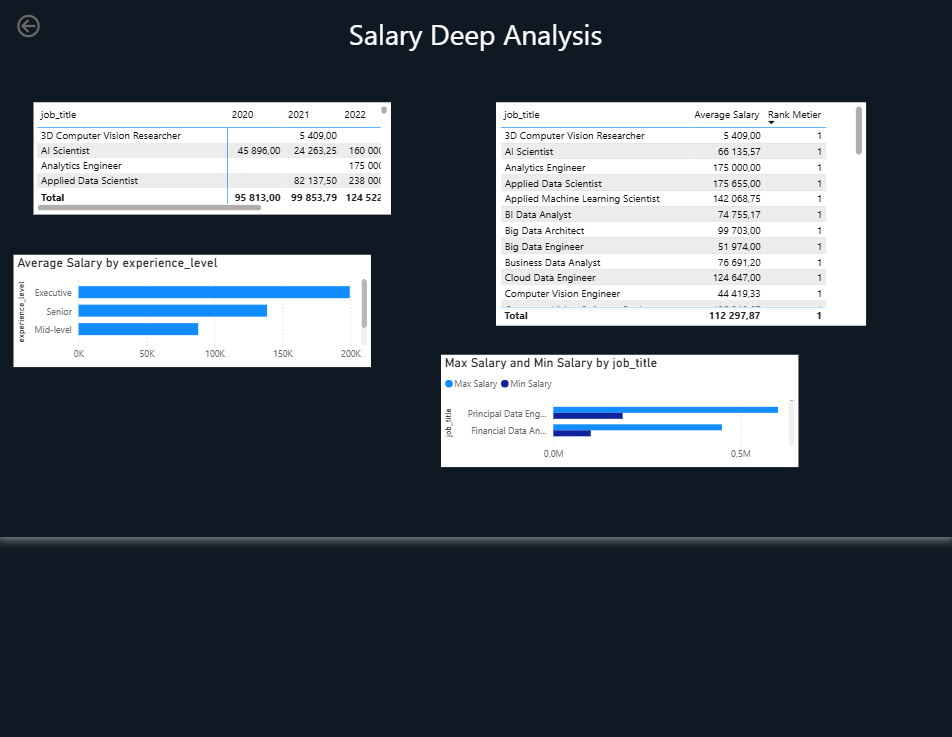

What the dashboard file says about the page in this screenshot:
{"tool":"powerbi","page":{"name":"Salaries","canvas":[1280,720],"ordinal":1},"visuals":[{"type":"textbox","box":[354.5,20,476,81.6],"z":0},{"type":"pivotTable","fields":{"Rows":["Dim_Metier.job_title"],"Columns":["Dim_Temps.work_year"],"Values":["_Mesures.Salaire Moyen"]},"box":[49.9,141.5,476,149.8],"z":1000},{"type":"clusteredBarChart","title":"Average Salary by experience_level","fields":{"Category":["Dim_Experience.experience_level"],"Y":["_Mesures.Salaire Moyen"]},"box":[23.3,344.6,476,149.8],"z":2000},{"type":"clusteredBarChart","title":"Max Salary and Min Salary by job_title","fields":{"Category":["Dim_Metier.job_title"],"Y":["_Mesures.Salaire Max","_Mesures.Salaire Min"]},"box":[592.6,477.7,476,149.8],"z":3000},{"type":"tableEx","fields":{"Values":["Dim_Metier.job_title","_Mesures.Salaire Moyen","_Mesures.Rank Metier"]},"box":[665.8,141.5,492.7,297.9],"z":4000},{"type":"actionButton","box":[23.3,20,99.9,39.9],"z":5000}]}

Visuals, with their boxes in screenshot pixels (x1, y1, x2, y2):
textbox: 257:5:619:67
pivotTable - Dim_Metier.job_title x Dim_Temps.work_year: 26:98:388:212
"Average Salary by experience_level" clusteredBarChart: 5:252:367:366
"Max Salary and Min Salary by job_title" clusteredBarChart: 438:353:800:467
tableEx - Dim_Metier.job_title x _Mesures.Salaire Moyen: 494:98:869:324
actionButton: 5:5:81:36
